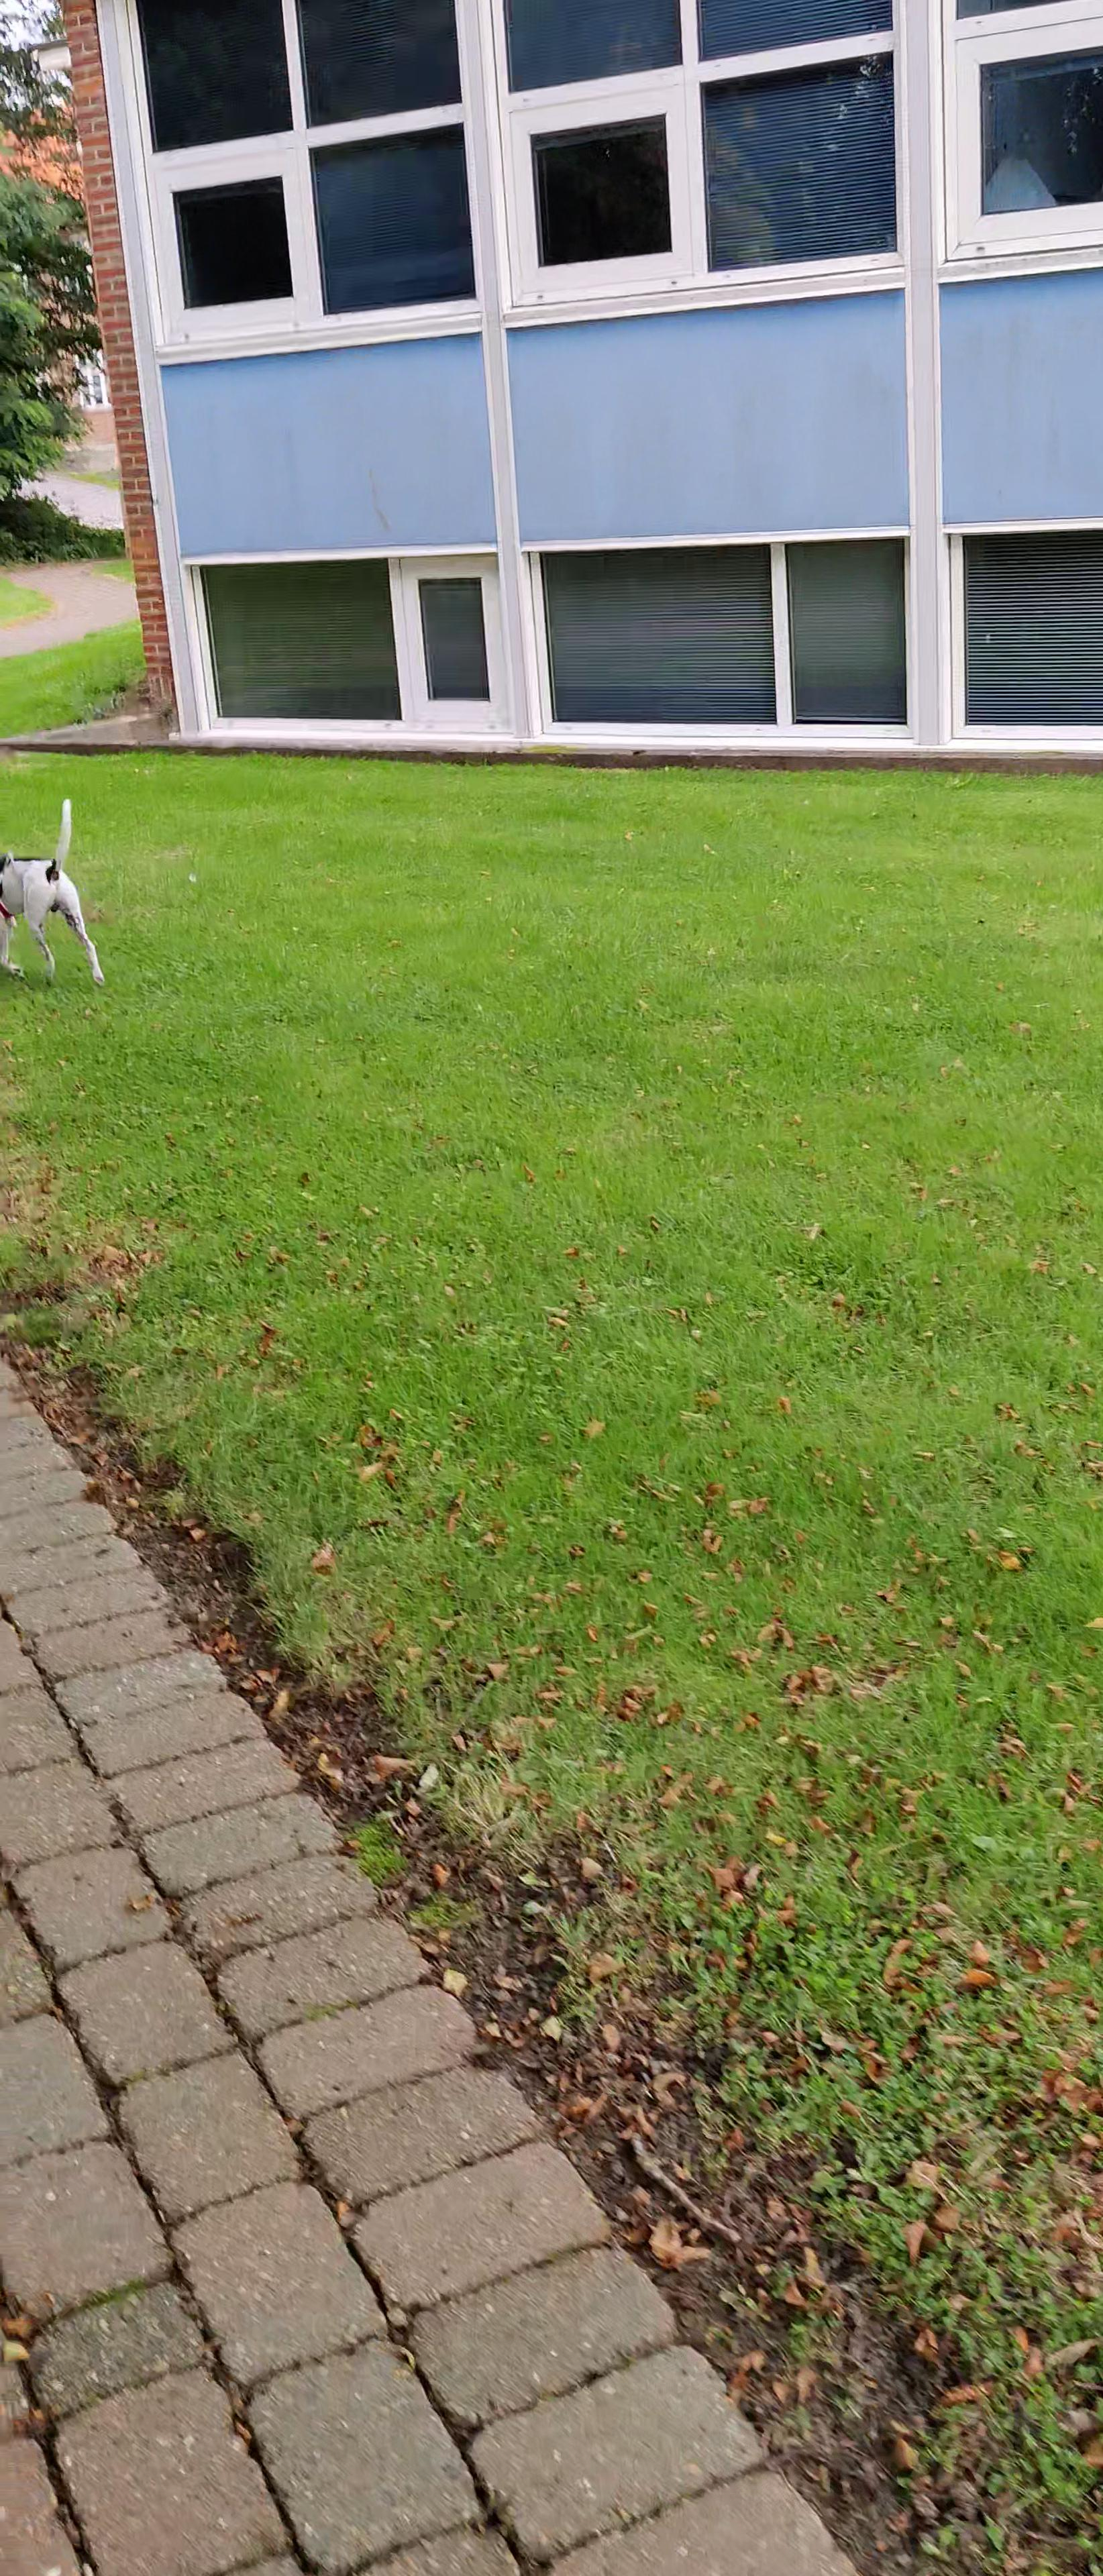Dog: (0, 789, 108, 989)
